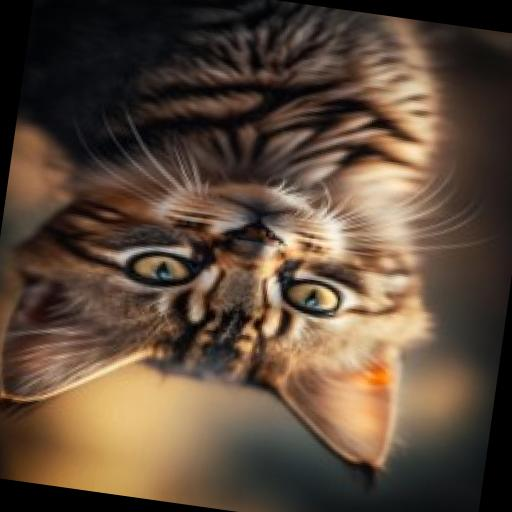cat: (0, 0, 495, 501)
